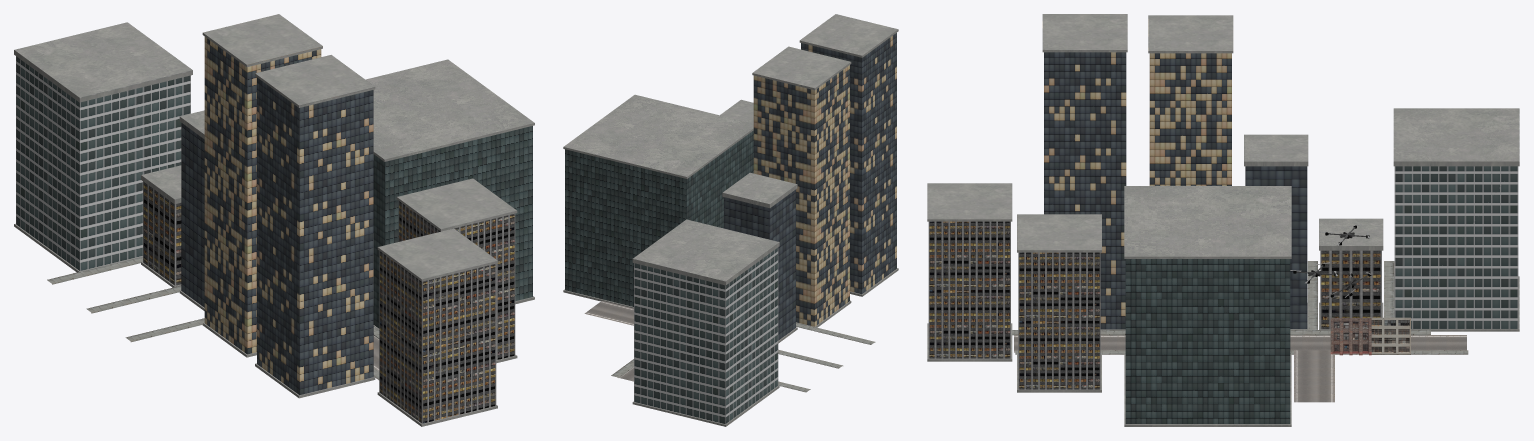
The model's file is city.glb.
The picture shows the model from 3 angles, left to right: view 1: azimuth 30°, elevation 25°; view 2: azimuth 150°, elevation 25°; view 3: azimuth 270°, elevation 25°; orthographic projection. The views are drawn at different scales.
Visible parts, largest first — view 1: building_06.1, building_01.3, building_08.1, building_07.2, building_05.1, building_06.2, building_01.1, building_01.2, SideWalk.002, SideWalk.003, SideWalk.004; view 2: building_01.3, building_08.1, building_05.1, building_06.1, building_01.1, Road.001, building_06.2, SideWalk.004; view 3: building_08.1, building_01.3, building_06.1, building_07.2, building_06.2, building_05.1, building_01.2, building_01.1, Road.001, Road, BrickBuildingFront, IndustrialBuildingFront (+4 smaller).
Boxes of the visible parts, x1,y1,x2,y2 form: building_06.1: [255, 55, 375, 398]; building_01.3: [14, 22, 192, 272]; building_08.1: [365, 59, 534, 329]; building_07.2: [377, 228, 497, 426]; building_05.1: [202, 14, 322, 357]; building_06.2: [396, 178, 517, 363]; building_01.1: [179, 110, 204, 310]; building_01.2: [141, 165, 181, 287]; SideWalk.002: [86, 286, 181, 313]; SideWalk.003: [47, 257, 142, 284]; SideWalk.004: [125, 318, 204, 342]; building_01.3: [632, 219, 779, 426]; building_08.1: [563, 94, 753, 308]; building_05.1: [752, 46, 851, 327]; building_06.1: [799, 14, 898, 296]; building_01.1: [722, 172, 797, 343]; Road.001: [584, 301, 633, 325]; building_06.2: [720, 99, 753, 123]; SideWalk.004: [796, 323, 875, 344]; building_08.1: [1124, 186, 1291, 426]; building_01.3: [1393, 108, 1519, 331]; building_06.1: [1042, 14, 1127, 329]; building_07.2: [927, 183, 1012, 361]; building_06.2: [1017, 214, 1101, 392]; building_05.1: [1148, 15, 1233, 185]; building_01.2: [1319, 218, 1383, 329]; building_01.1: [1244, 134, 1308, 329]; Road.001: [1294, 350, 1334, 402]; Road: [1014, 335, 1466, 352]; BrickBuildingFront: [1330, 318, 1371, 355]; IndustrialBuildingFront: [1370, 317, 1410, 354].
Size of the model in its own units: 151 by 121 by 230.
63 materials, 18 textured.
